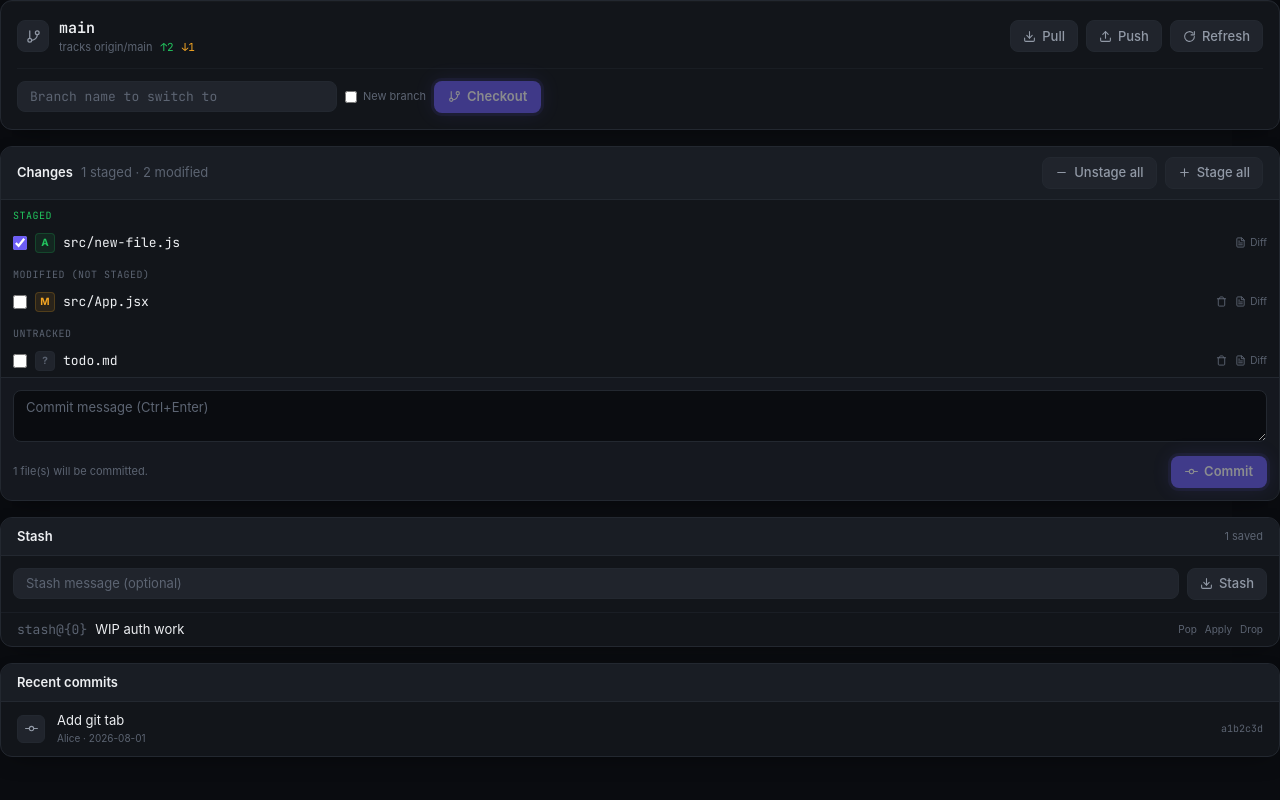
Scenario: GitTab › commits with a message when there are staged files
Type "feat: stage and commit" into the text box with placeholder "Commit message (Ctrl+Enter)" at (640, 416), box [13,390,1267,442]
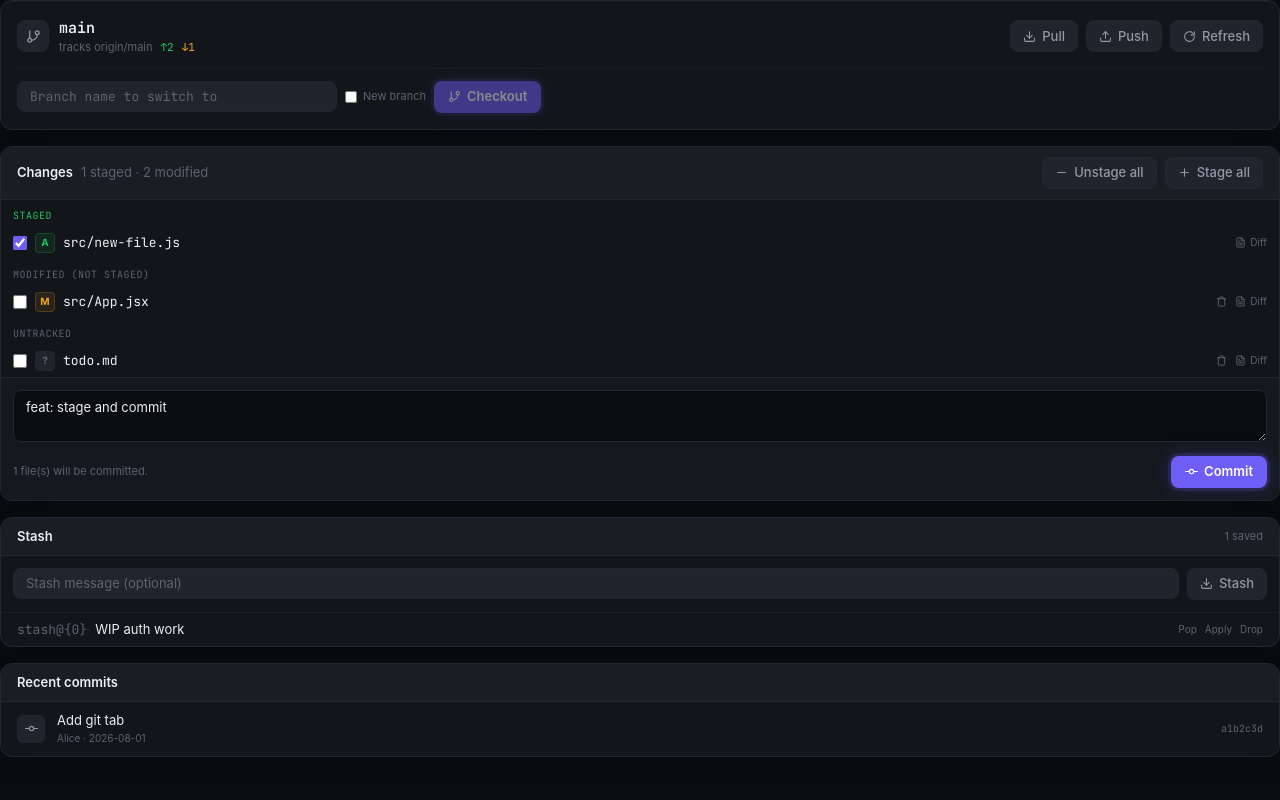
Click the button "Commit" at (1219, 472), box [1171,456,1267,488]
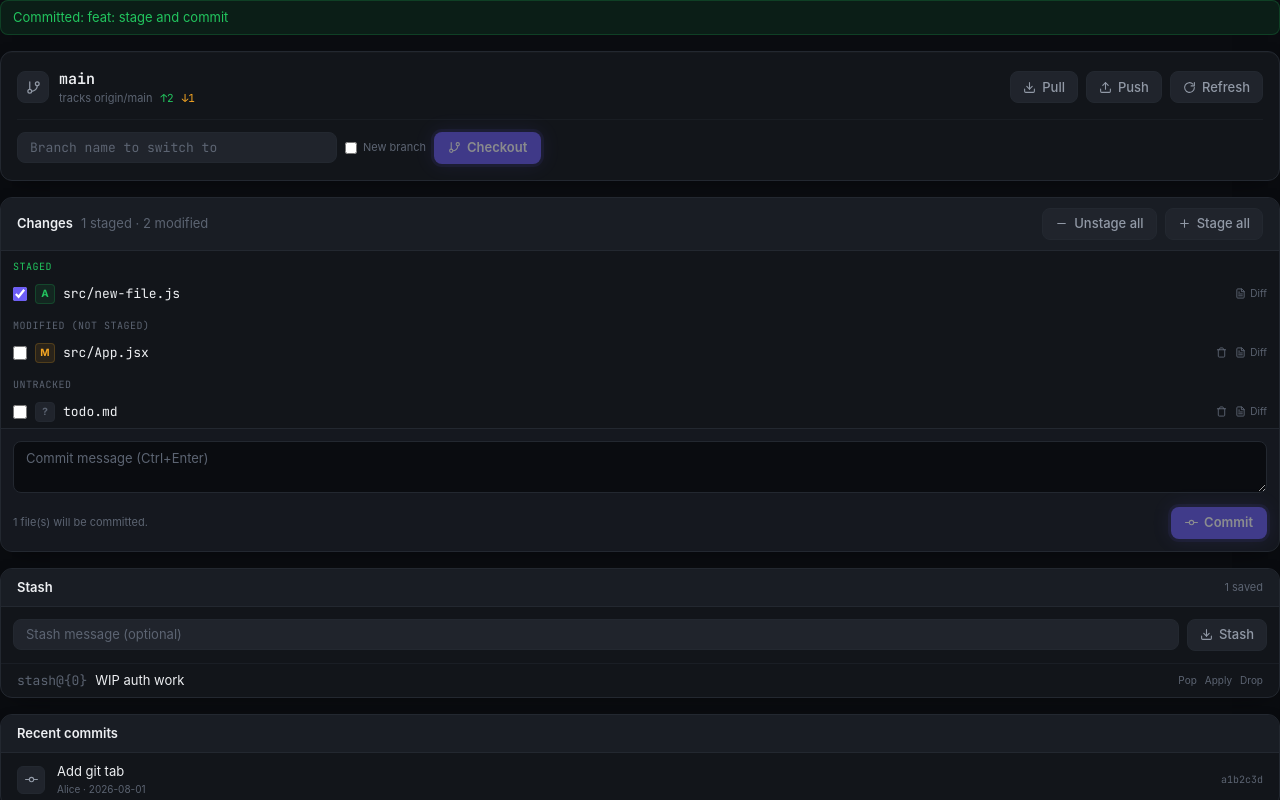
Expected: the text "Committed: feat: stage and commit" is shown, [0,0,1279,35]
